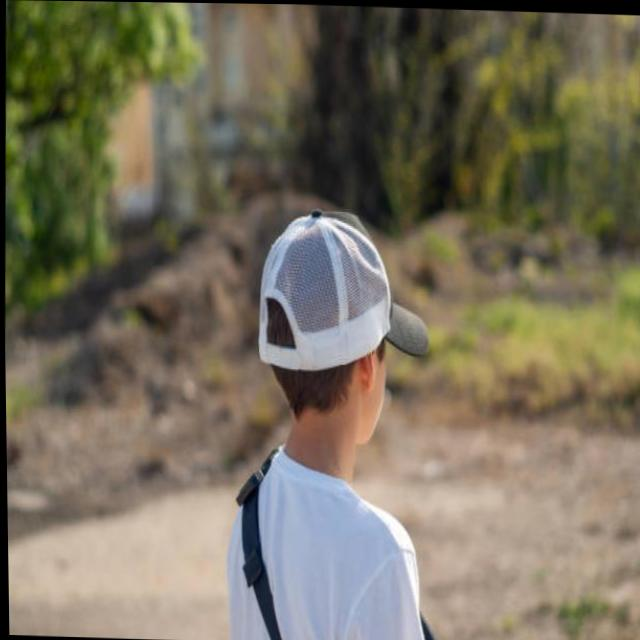no helmet: (243, 199, 437, 473)
